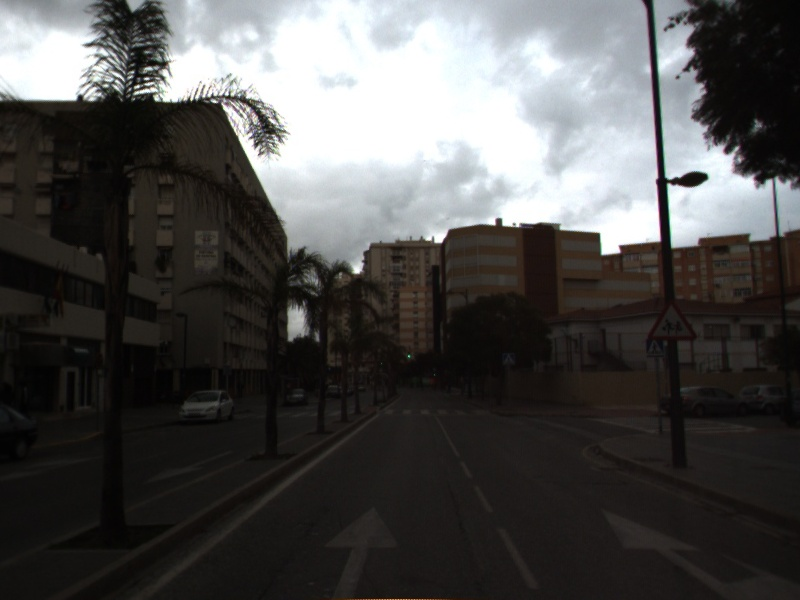STRAIGHT: (321, 504, 401, 600)
STRAIGHT_RIGHT: (598, 505, 800, 600)
